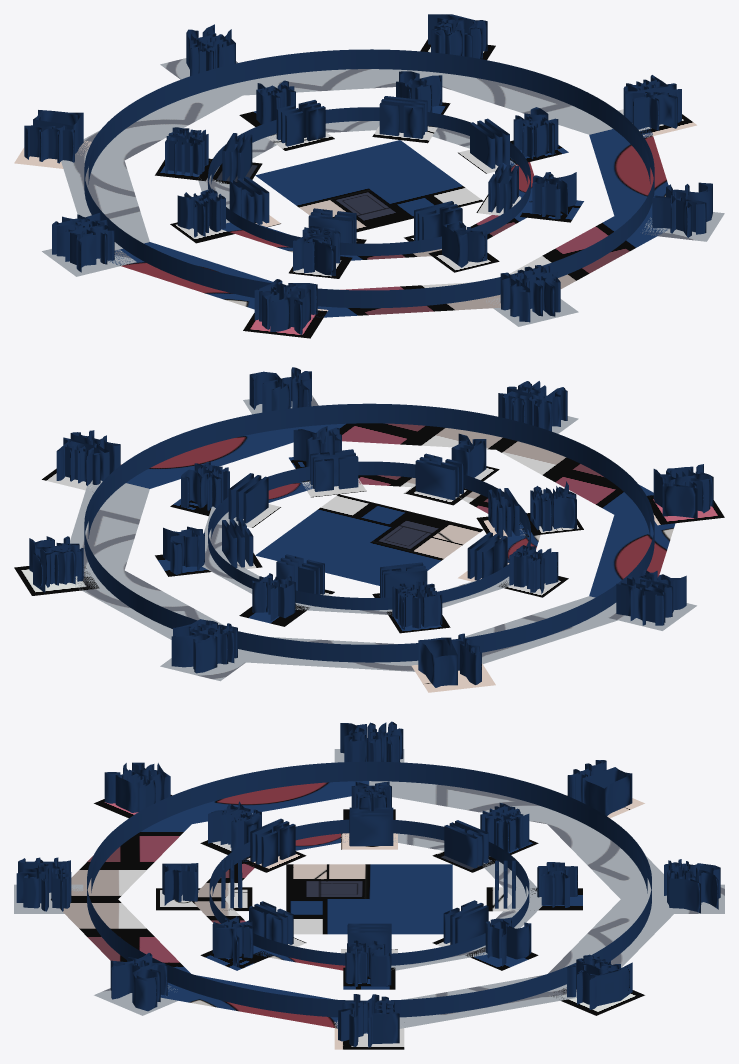
File: Hakke64.fbx
The picture shows the model from 3 angles, top to bottom: view 1: azimuth 30°, elevation 25°; view 2: azimuth 150°, elevation 25°; view 3: azimuth 270°, elevation 25°; orthographic projection.
Visible parts, largest first — view 1: 0047_d12_1khkj04, 0046_d12_1khkj03, 0044_d12_1khkj01, 0045_d12_1khkj02; view 2: 0047_d12_1khkj04, 0046_d12_1khkj03, 0044_d12_1khkj01, 0045_d12_1khkj02; view 3: 0047_d12_1khkj04, 0046_d12_1khkj03, 0044_d12_1khkj01, 0045_d12_1khkj02.
Part boxes in pixels (left/top/right/bottom): 0047_d12_1khkj04: left=24, top=14, right=712, bottom=334; 0046_d12_1khkj03: left=14, top=39, right=724, bottom=338; 0044_d12_1khkj01: left=255, top=140, right=483, bottom=232; 0045_d12_1khkj02: left=155, top=102, right=583, bottom=278; 0047_d12_1khkj04: left=29, top=367, right=713, bottom=687; 0046_d12_1khkj03: left=14, top=395, right=724, bottom=692; 0044_d12_1khkj01: left=255, top=494, right=483, bottom=585; 0045_d12_1khkj02: left=155, top=457, right=583, bottom=633; 0047_d12_1khkj04: left=16, top=721, right=720, bottom=1047; 0046_d12_1khkj03: left=14, top=749, right=724, bottom=1049; 0044_d12_1khkj01: left=286, top=864, right=452, bottom=934; 0045_d12_1khkj02: left=156, top=809, right=582, bottom=989.
Bounding box in the file's own units: 450 × 20.85 × 450.
